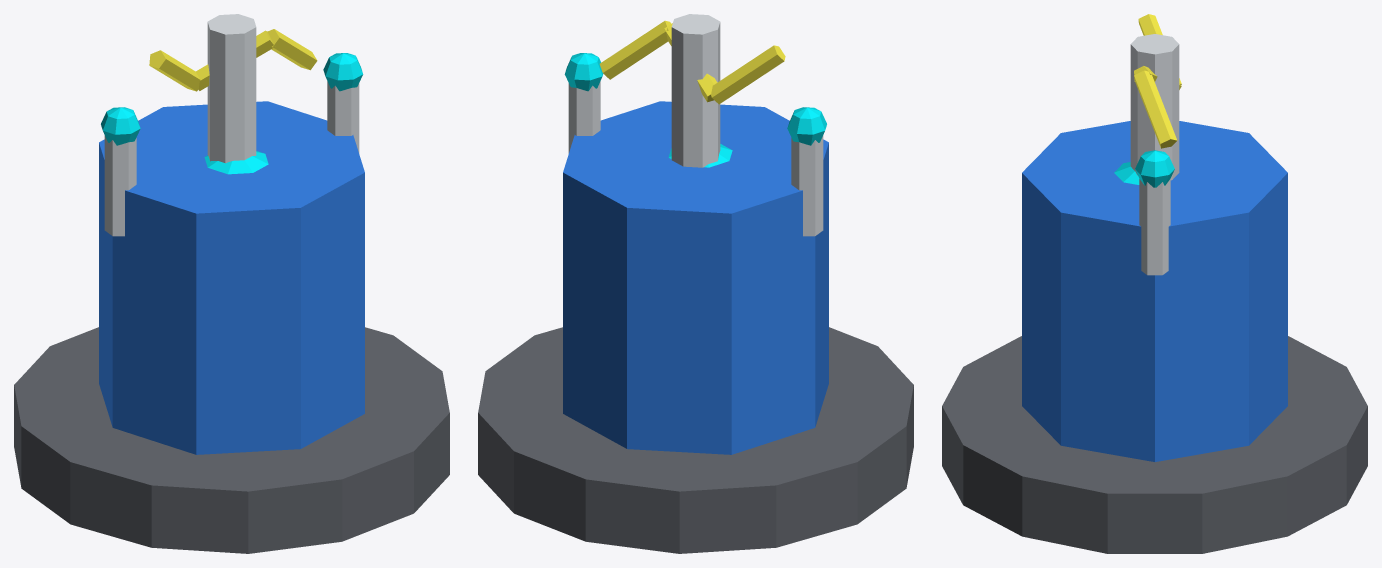
Rendered from TD_LightningTower_T0.fbx.
3 views of the same model, side by side, from view 1: azimuth 30°, elevation 25°; view 2: azimuth 150°, elevation 25°; view 3: azimuth 270°, elevation 25° (orthographic). The views are drawn at different scales.
Parts seen in each view (by area): view 1: TD_LightningTower_T0_Body, TD_LightningTower_T0_Base, TD_LightningTower_T0_Coil, TD_LightningTower_T0_Rod_02, TD_LightningTower_T0_Rod_01, TD_LightningTower_T0_Rod_02_Tip, TD_LightningTower_T0_Rod_01_Tip, TD_LightningTower_T0_Bolt_01_Segment_01, TD_LightningTower_T0_Bolt_01_Segment_03, TD_LightningTower_T0_Core, TD_LightningTower_T0_Bolt_01_Segment_02; view 2: TD_LightningTower_T0_Body, TD_LightningTower_T0_Base, TD_LightningTower_T0_Coil, TD_LightningTower_T0_Rod_02, TD_LightningTower_T0_Rod_01, TD_LightningTower_T0_Bolt_01_Segment_01, TD_LightningTower_T0_Bolt_01_Segment_03, TD_LightningTower_T0_Rod_02_Tip, TD_LightningTower_T0_Rod_01_Tip; view 3: TD_LightningTower_T0_Body, TD_LightningTower_T0_Base, TD_LightningTower_T0_Coil, TD_LightningTower_T0_Rod_01, TD_LightningTower_T0_Bolt_01_Segment_03, TD_LightningTower_T0_Rod_01_Tip.
Part boxes in pixels (x1,y1,x2,y2): TD_LightningTower_T0_Body: [99, 101, 364, 454]; TD_LightningTower_T0_Base: [14, 327, 449, 553]; TD_LightningTower_T0_Coil: [207, 14, 256, 163]; TD_LightningTower_T0_Rod_02: [104, 135, 136, 236]; TD_LightningTower_T0_Rod_01: [327, 81, 359, 153]; TD_LightningTower_T0_Rod_02_Tip: [101, 107, 140, 145]; TD_LightningTower_T0_Rod_01_Tip: [323, 53, 363, 91]; TD_LightningTower_T0_Bolt_01_Segment_01: [149, 50, 200, 91]; TD_LightningTower_T0_Bolt_01_Segment_03: [267, 29, 317, 70]; TD_LightningTower_T0_Core: [204, 151, 268, 174]; TD_LightningTower_T0_Bolt_01_Segment_02: [195, 30, 275, 90]; TD_LightningTower_T0_Body: [563, 101, 828, 454]; TD_LightningTower_T0_Base: [478, 327, 913, 553]; TD_LightningTower_T0_Coil: [671, 14, 720, 167]; TD_LightningTower_T0_Rod_02: [791, 135, 823, 236]; TD_LightningTower_T0_Rod_01: [568, 81, 600, 153]; TD_LightningTower_T0_Bolt_01_Segment_01: [711, 45, 785, 104]; TD_LightningTower_T0_Bolt_01_Segment_03: [599, 20, 671, 79]; TD_LightningTower_T0_Rod_02_Tip: [787, 107, 826, 145]; TD_LightningTower_T0_Rod_01_Tip: [564, 53, 603, 91]; TD_LightningTower_T0_Body: [1022, 121, 1287, 461]; TD_LightningTower_T0_Base: [942, 336, 1367, 553]; TD_LightningTower_T0_Coil: [1130, 34, 1179, 180]; TD_LightningTower_T0_Rod_01: [1139, 179, 1170, 275]; TD_LightningTower_T0_Bolt_01_Segment_03: [1134, 70, 1177, 148]; TD_LightningTower_T0_Rod_01_Tip: [1135, 150, 1174, 187].
Size of the model in its own units: 0.9359 by 1.05 by 0.96.
